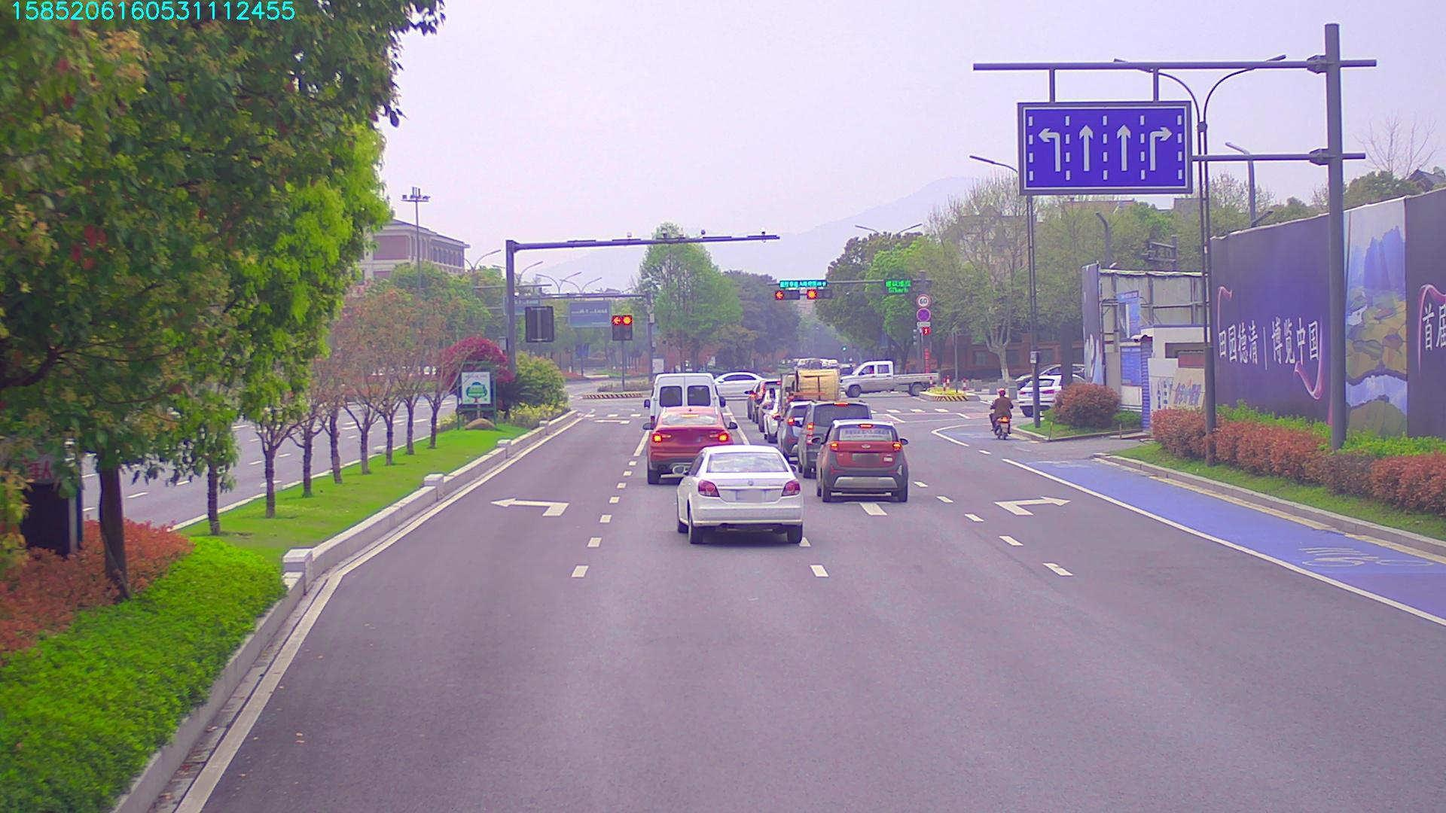red: (806, 288, 837, 302)
wait_on: (779, 276, 824, 288), (767, 288, 802, 303)
